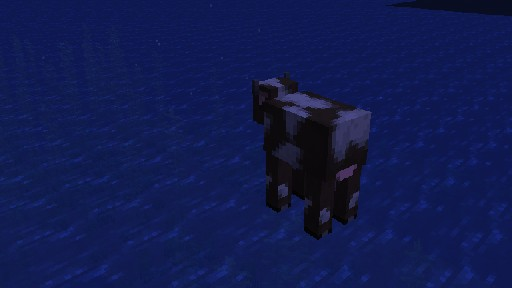cow: (251, 71, 371, 239)
